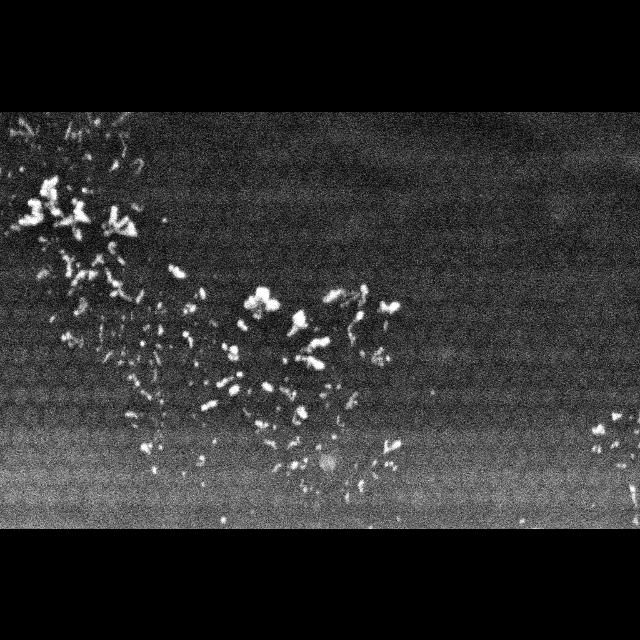dendrites: (40, 175, 90, 239), (323, 283, 367, 343), (105, 266, 145, 303), (242, 286, 279, 317), (10, 197, 43, 229), (102, 205, 136, 235), (10, 118, 41, 141), (72, 260, 98, 285), (65, 120, 92, 141), (287, 309, 308, 336), (301, 336, 330, 351), (295, 354, 324, 368), (61, 250, 75, 276), (61, 331, 84, 346), (118, 131, 129, 158), (112, 111, 133, 125), (74, 296, 90, 314), (376, 301, 400, 313), (222, 343, 239, 359), (278, 386, 296, 400), (383, 438, 400, 452), (372, 346, 384, 365), (294, 406, 307, 423), (95, 324, 103, 350), (169, 264, 186, 276), (217, 375, 235, 386), (127, 374, 142, 387), (346, 392, 358, 408), (140, 442, 155, 454), (255, 420, 268, 433), (88, 111, 100, 125), (630, 484, 637, 507), (288, 435, 300, 448), (322, 456, 335, 468), (132, 157, 143, 171), (183, 331, 193, 346), (92, 253, 104, 265), (264, 438, 277, 449), (385, 461, 399, 471), (592, 424, 605, 434), (108, 158, 118, 170), (154, 350, 162, 365), (202, 401, 216, 409), (102, 351, 112, 362), (81, 185, 94, 193), (141, 389, 151, 399), (358, 478, 365, 492), (130, 203, 142, 211), (126, 410, 138, 418), (109, 240, 116, 253), (155, 300, 162, 313), (187, 302, 197, 311), (273, 461, 282, 471), (208, 318, 218, 327), (81, 152, 92, 160), (262, 382, 273, 390), (633, 512, 639, 526), (38, 268, 47, 277), (230, 385, 239, 394), (239, 319, 247, 329), (337, 416, 345, 426), (382, 318, 388, 331), (242, 407, 250, 416), (593, 443, 602, 451), (301, 478, 306, 491), (118, 256, 126, 264), (613, 412, 621, 420), (198, 455, 205, 464), (38, 236, 48, 242), (372, 471, 380, 478), (611, 441, 619, 448), (158, 324, 163, 335), (200, 287, 205, 297), (152, 465, 157, 475), (49, 314, 56, 321), (142, 324, 150, 330), (128, 360, 136, 366), (346, 491, 350, 503), (371, 458, 377, 466), (292, 460, 298, 468), (137, 353, 142, 362), (68, 287, 74, 294), (360, 349, 365, 357), (154, 367, 157, 380), (163, 217, 169, 223), (320, 392, 326, 398), (160, 398, 164, 407), (315, 444, 321, 450), (282, 356, 288, 362), (617, 464, 626, 468), (58, 145, 65, 150), (161, 309, 168, 314), (140, 339, 145, 346), (300, 464, 308, 468), (47, 122, 52, 128), (155, 342, 160, 348), (237, 371, 242, 377), (272, 424, 277, 430), (332, 433, 338, 438), (20, 164, 25, 170), (520, 518, 526, 523), (222, 517, 226, 524), (45, 111, 50, 116), (105, 130, 110, 135), (204, 379, 209, 384), (326, 383, 331, 388), (132, 422, 137, 427), (303, 456, 308, 461), (344, 480, 349, 485), (10, 194, 16, 198), (386, 355, 390, 361), (195, 360, 199, 366), (337, 383, 341, 389), (31, 139, 34, 146), (248, 387, 251, 394), (65, 156, 69, 161), (70, 164, 74, 169), (68, 184, 72, 189), (55, 237, 59, 242), (118, 359, 123, 363), (182, 470, 186, 475), (635, 428, 640, 432), (184, 308, 187, 314), (131, 310, 133, 319), (159, 444, 162, 450), (316, 488, 319, 494), (285, 376, 289, 380), (190, 381, 194, 385), (202, 481, 206, 485), (162, 411, 166, 415), (396, 516, 400, 520), (38, 143, 41, 148), (8, 171, 11, 176), (42, 246, 45, 251), (122, 315, 125, 320), (355, 462, 358, 467), (150, 358, 152, 365), (87, 176, 90, 180), (47, 241, 51, 244), (147, 307, 150, 311), (276, 406, 280, 409), (638, 442, 640, 448), (631, 453, 634, 457), (432, 389, 435, 393), (638, 417, 640, 422), (370, 525, 373, 528), (44, 161, 46, 165), (45, 192, 48, 193)
